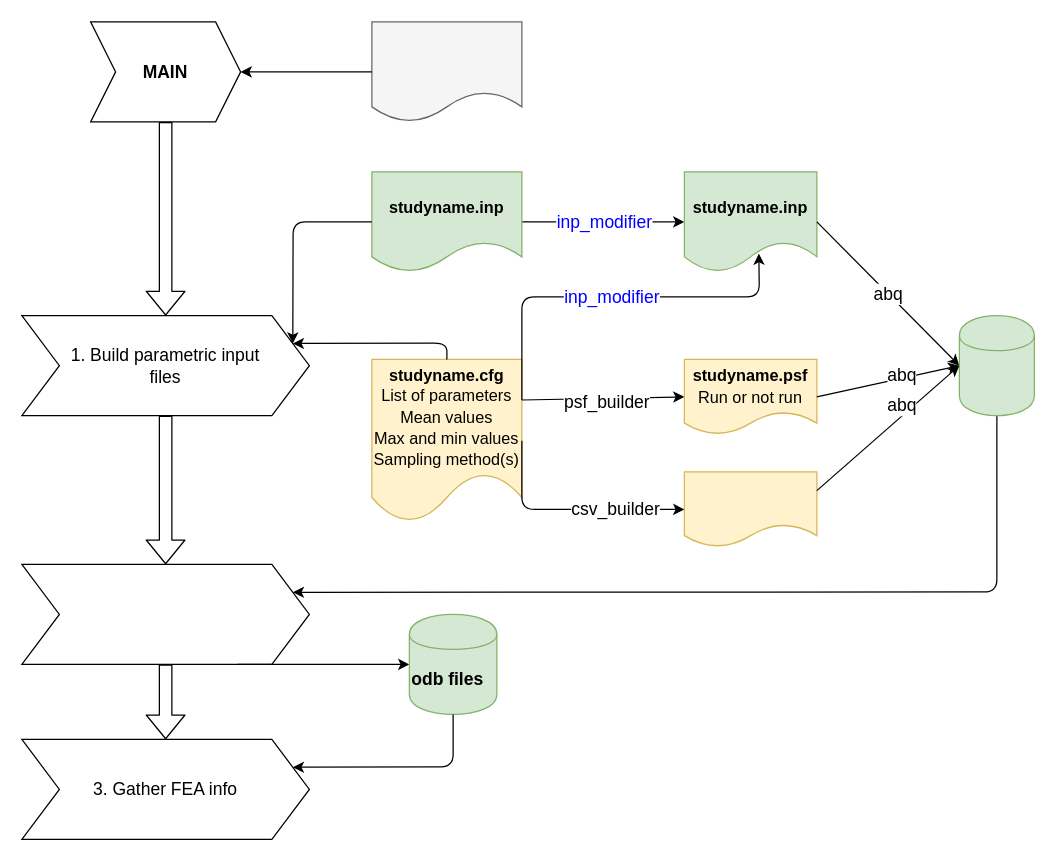
Some shapes in this 1056 by 861 pixel diagram are drawn without their labels. The shapes that lost their labels are listed below. From the top down, each one's centre as x and y in pixels, then its label:
the point at 446,71: main_config.cfg Select study(ies)
the point at 996,365: inp files
the point at 750,509: csv parameters values
the point at 165,613: 2. Run FEA analysis
